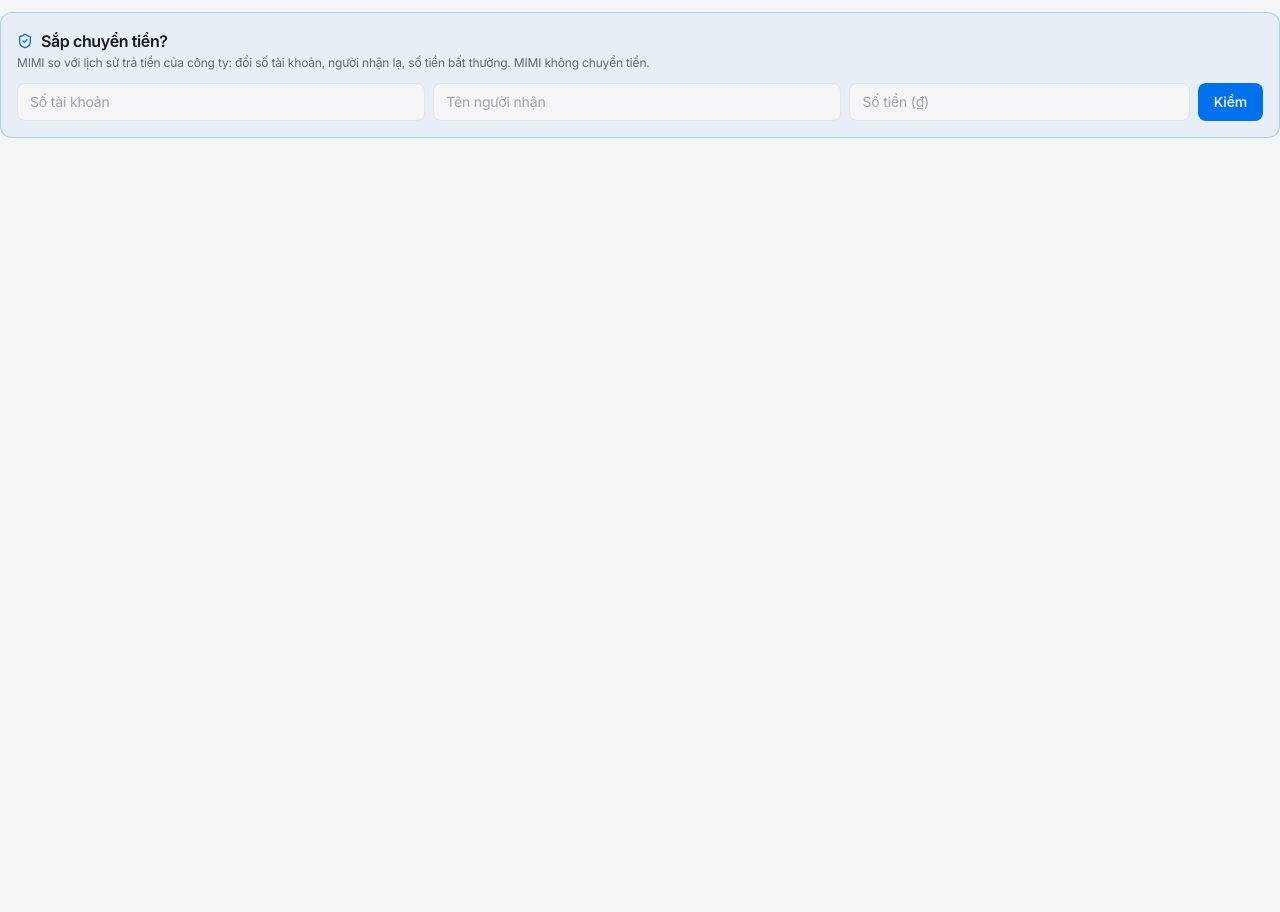
Scenario: Ô "Sắp chuyển tiền?" trên Tổng quan › bấm Kiểm → trang kiểm tự kiểm MỘT lần với đúng dữ liệu; số tài khoản không nằm trong URL
Type "0123 456 8910" into the field named "Số tài khoản người nhận" at {"x": 221, "y": 102}, box top-left (17, 83), bottom-right (425, 121)
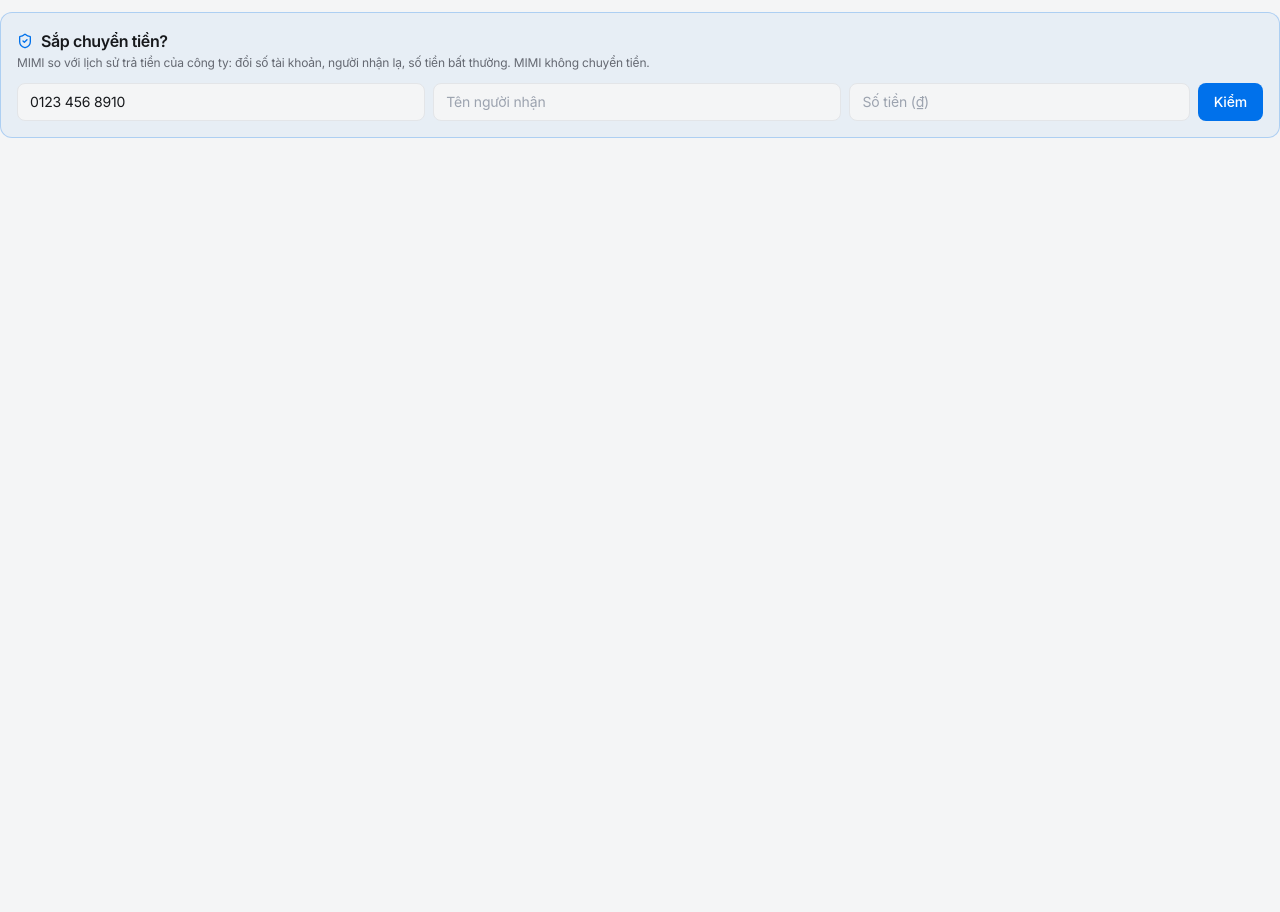
Type "Cong ty ABC" into the field labelled "Tên người nhận" at {"x": 637, "y": 102}, box top-left (433, 83), bottom-right (842, 121)
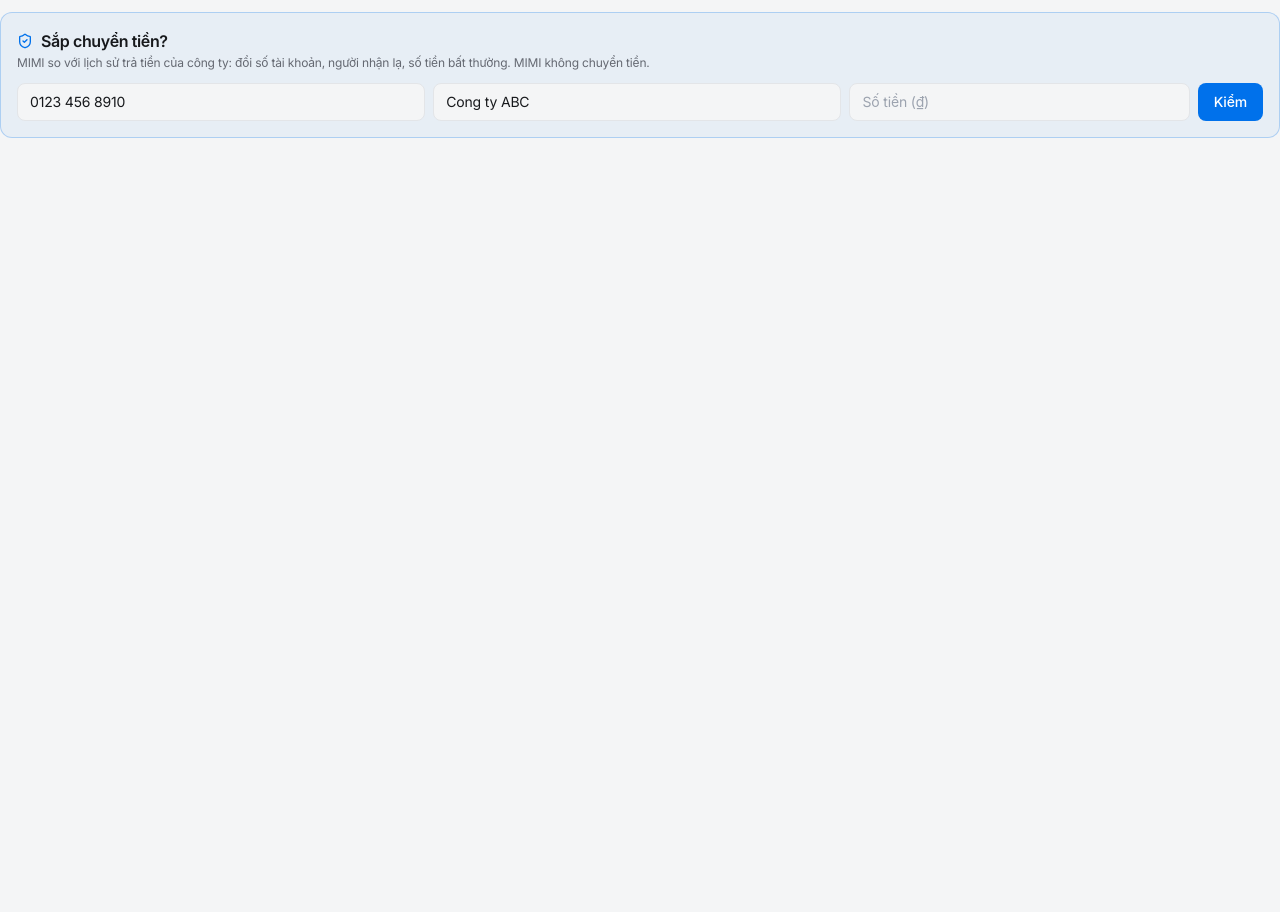
Type "80000000" into the field named "Số tiền sắp chuyển" at {"x": 1020, "y": 102}, box top-left (850, 83), bottom-right (1190, 121)
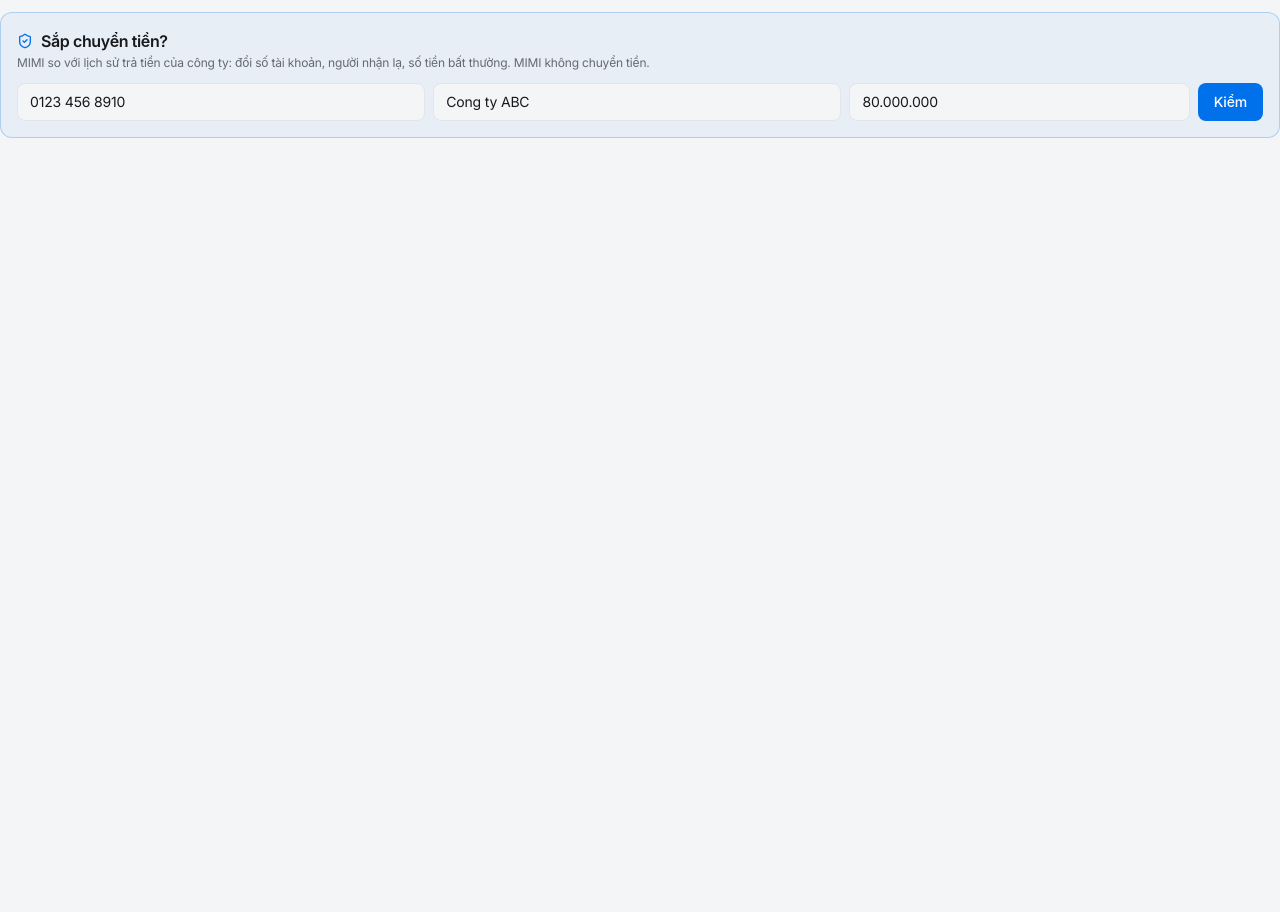
Now the field named "Số tiền sắp chuyển" holds "80.000.000", box top-left (850, 83), bottom-right (1190, 121)
Click the button "Kiểm" at {"x": 1230, "y": 102}, box top-left (1198, 83), bottom-right (1263, 121)
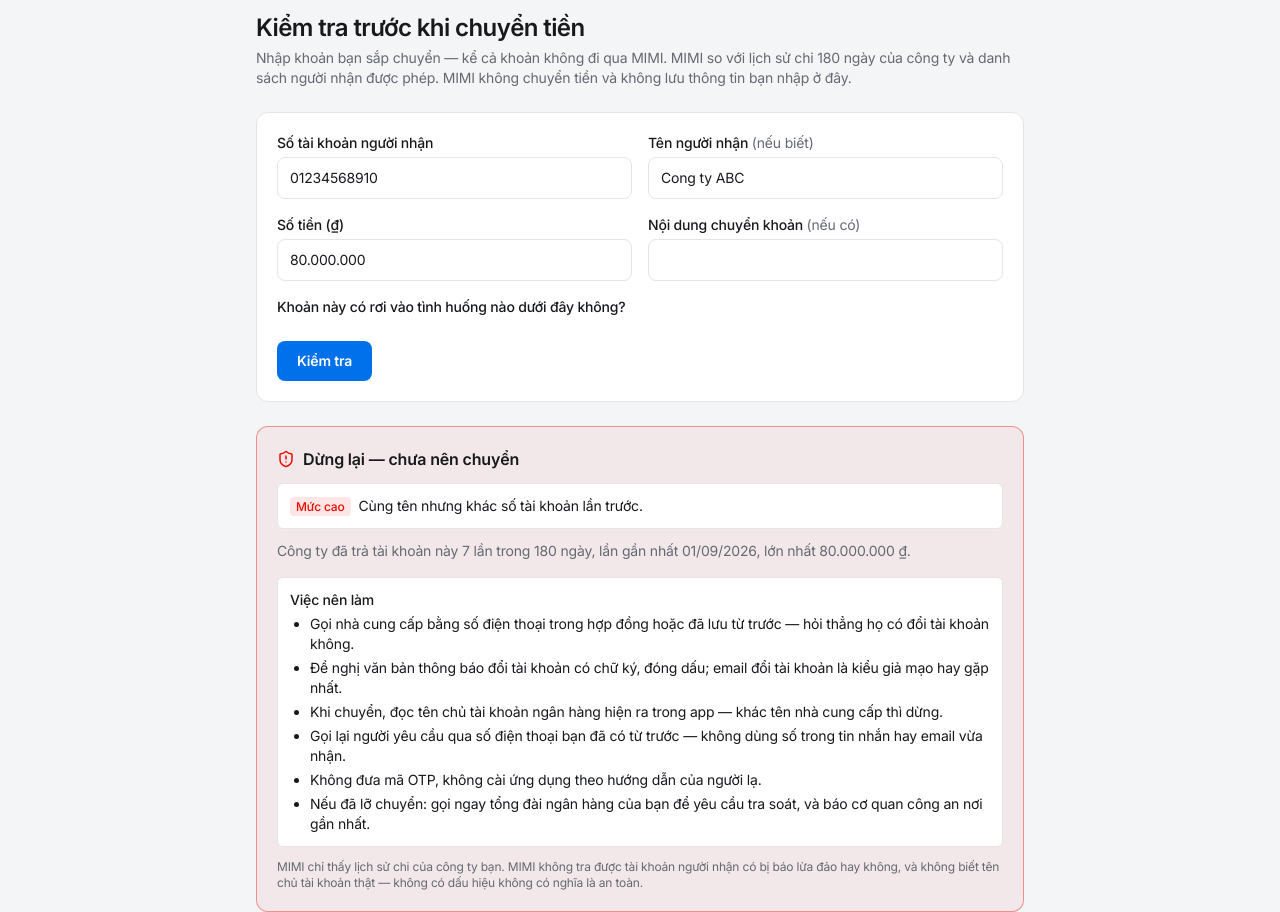
Now the list item "Cùng tên nhưng khác số tài khoản" is shown, box top-left (358, 497), bottom-right (643, 514)
Now the field labelled "Số tài khoản người nhận" holds "01234568910", box top-left (277, 157), bottom-right (632, 199)
